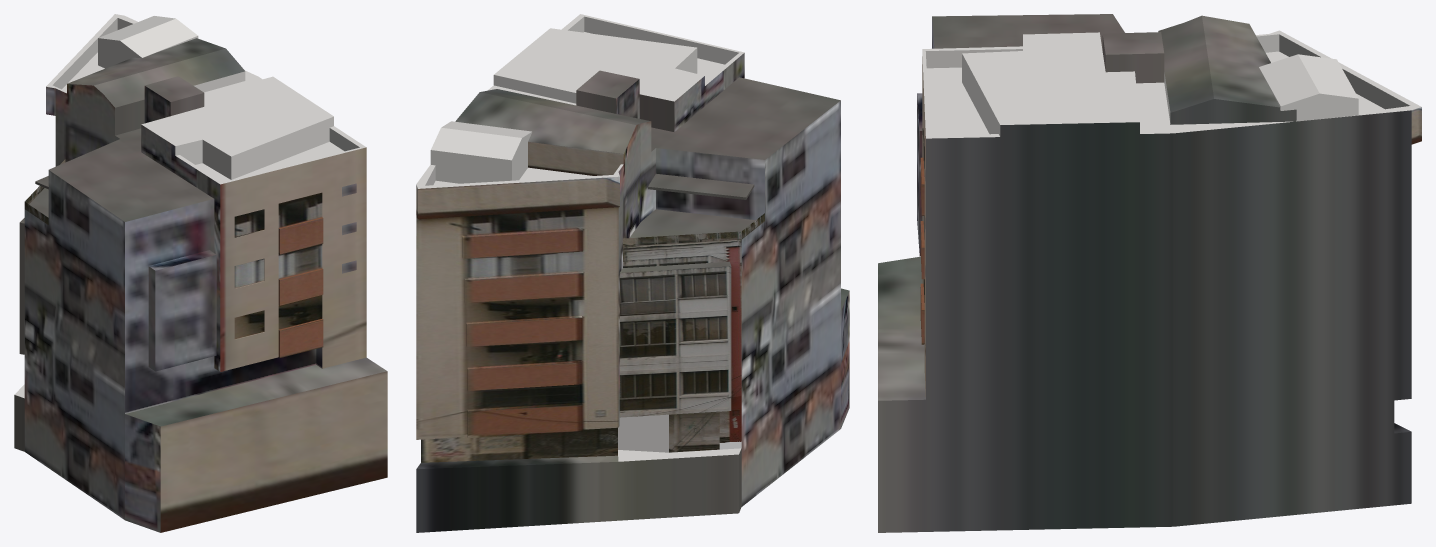
The model's file is Edificio.fbx.
The picture shows the model from 3 angles, left to right: view 1: azimuth 30°, elevation 25°; view 2: azimuth 150°, elevation 25°; view 3: azimuth 270°, elevation 25°; orthographic projection. The views are drawn at different scales.
Parts seen in each view (by area): view 1: Model; view 2: Model; view 3: Model.
Part boxes in pixels (x1,y1,x2,y2): Model: [14, 14, 387, 532]; Model: [416, 14, 849, 532]; Model: [878, 14, 1421, 532].
Size of the model in its own units: 23.95 by 31.17 by 36.35.
